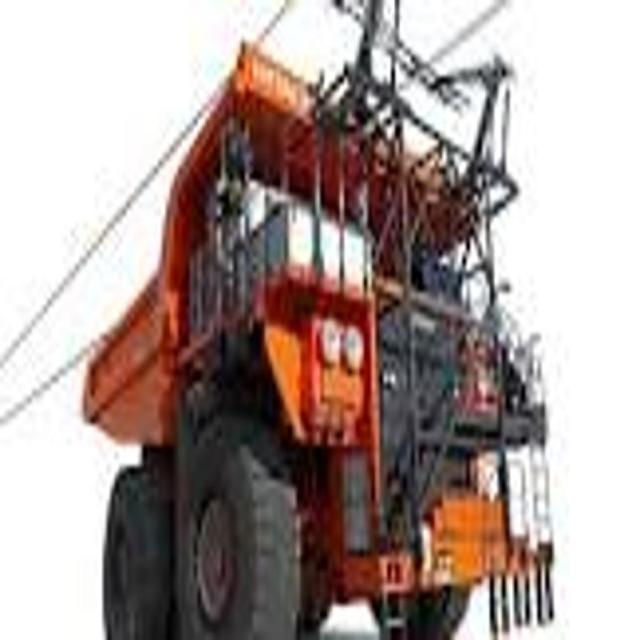dump_truck: (75, 52, 556, 640)
